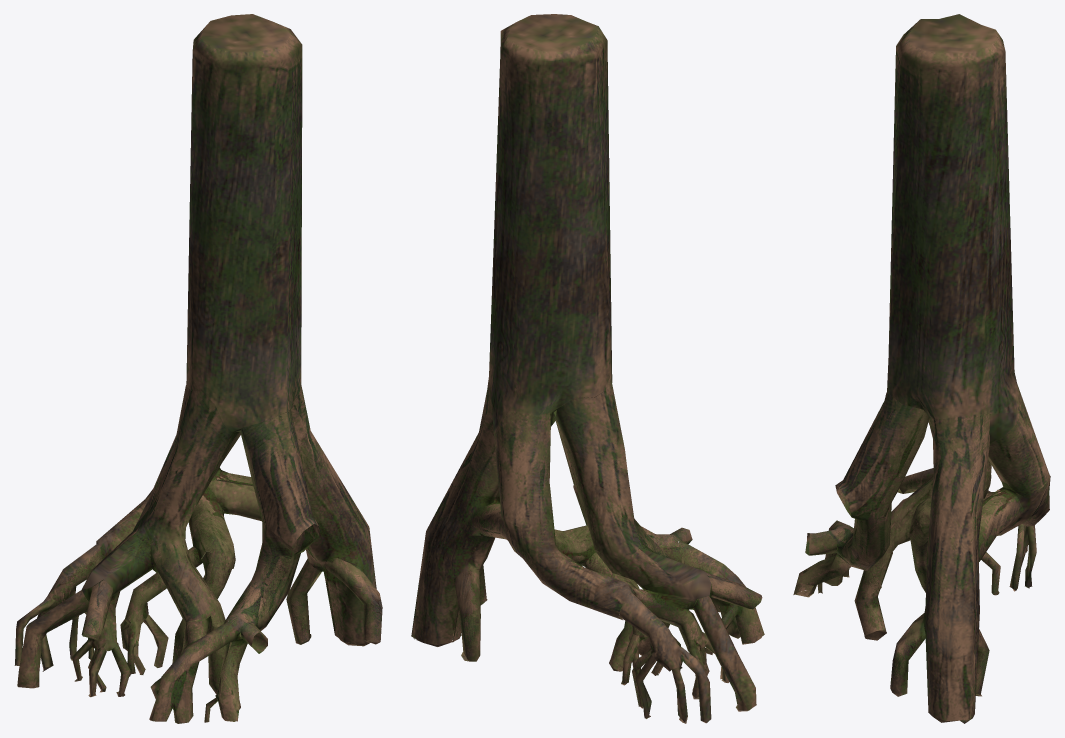
The picture shows the model from 3 angles, left to right: view 1: azimuth 30°, elevation 25°; view 2: azimuth 150°, elevation 25°; view 3: azimuth 270°, elevation 25°; orthographic projection.
Visible parts, largest first — view 1: tree:polySurface1; view 2: tree:polySurface1; view 3: tree:polySurface1.
Boxes of the visible parts, left/top/right/bottom form: tree:polySurface1: left=14, top=14, right=382, bottom=723; tree:polySurface1: left=411, top=14, right=764, bottom=723; tree:polySurface1: left=793, top=14, right=1050, bottom=723.
Size of the model in its own units: 0.1548 by 0.2704 by 0.0997.
Materials: 1 (1 with a texture image).
